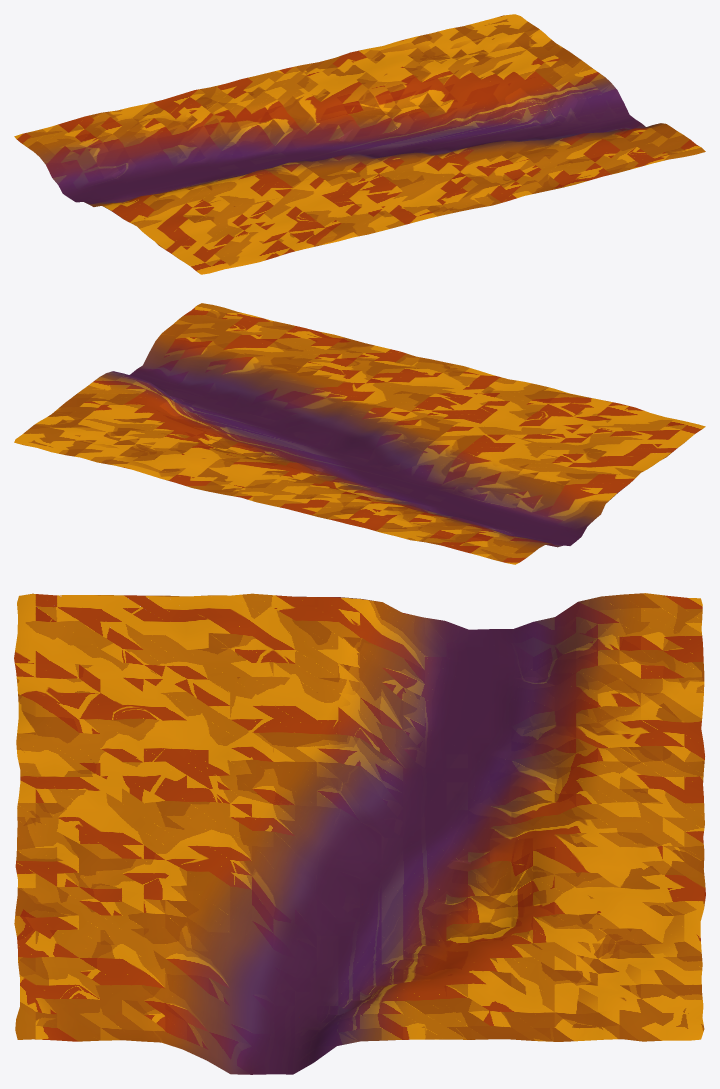
File: world-test.fbx
3 views of the same model, one above another, from view 1: azimuth 30°, elevation 25°; view 2: azimuth 150°, elevation 25°; view 3: azimuth 270°, elevation 25° (orthographic). The views are drawn at different scales.
Parts seen in each view (by area): view 1: Plane; view 2: Plane; view 3: Plane.
Boxes of the visible parts, x1=… form: Plane: x1=14, y1=14, x2=705, y2=274; Plane: x1=14, y1=303, x2=705, y2=564; Plane: x1=14, y1=593, x2=705, y2=1074.
Bounding box in the file's own units: 5957 × 237 × 3900.
Materials: 1 (1 with a texture image).
